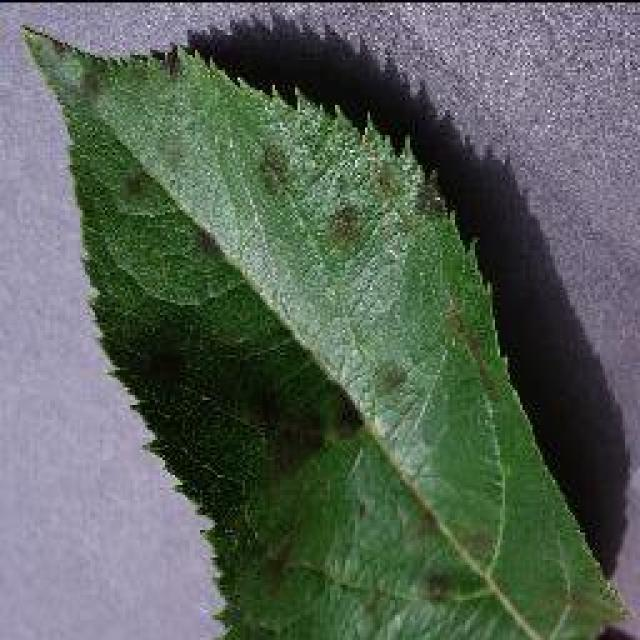apple scab disease: (17, 12, 635, 638)
